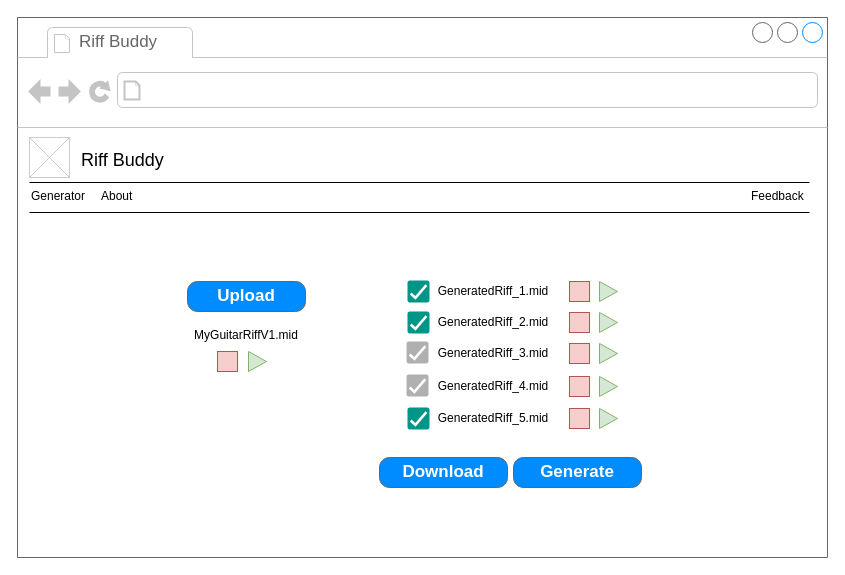
Image size: 845x575. Some labels were removed from this diagram. The shapes that lost their labels are listed below. From the top down, each one's centre as x and y in pixels, then its label:
At [272,90]: "https://www.riffbuddy.io".
At [49,157]: "App Logo".
